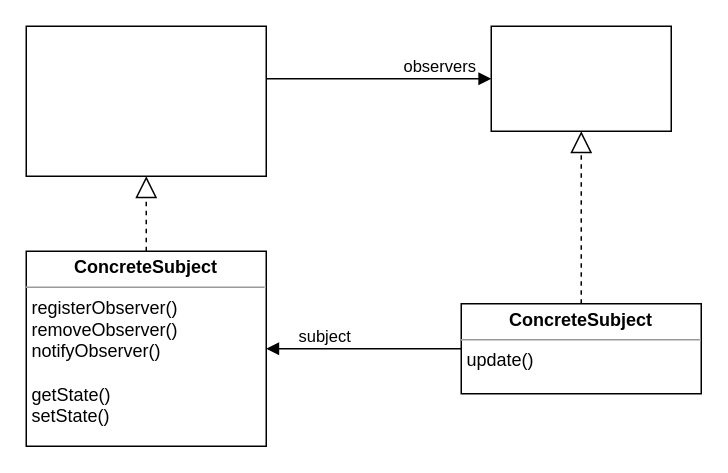
Image size: 728x473. Some labels were removed from this diagram. The shapes that lost their labels are listed below. From the top down, each one's centre as x and y in pixels, then its label:
At point 580,78: "<<Interface>> Observer update()".
At point 145,100: "<<Interface>> Subject registerObserver() r emoveObserver() notifyObserver()".
